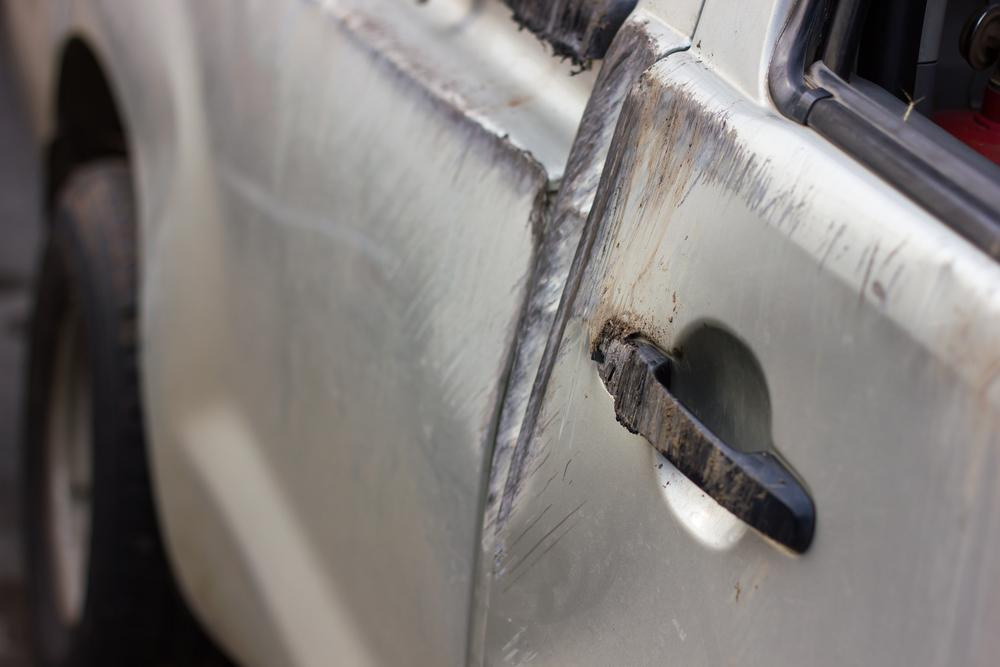scratch: (477, 15, 917, 586)
